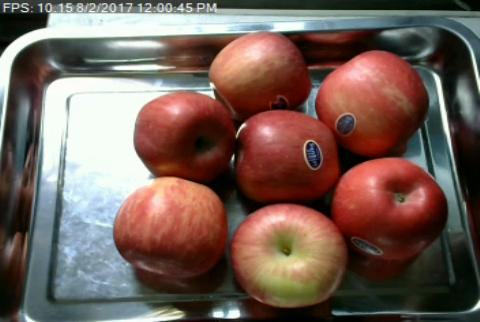apple: (315, 49, 428, 156), (334, 156, 449, 260), (231, 205, 346, 305), (113, 176, 225, 278), (232, 112, 340, 203), (133, 89, 234, 178), (208, 31, 313, 115)
